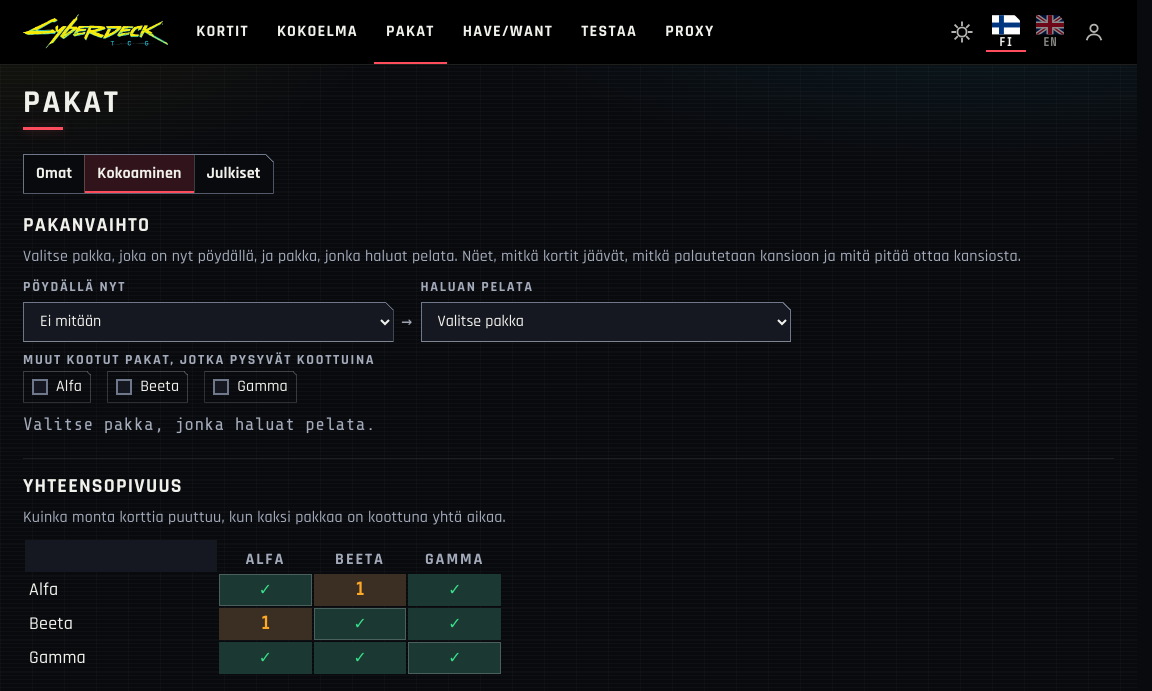
Test case: Kokoaminen tab (T-164) › shows the swap groups and counts for the chosen decks
Select "Alfa" in the dropdown labelled "Pöydällä nyt": (208, 322) [23, 302, 394, 342]
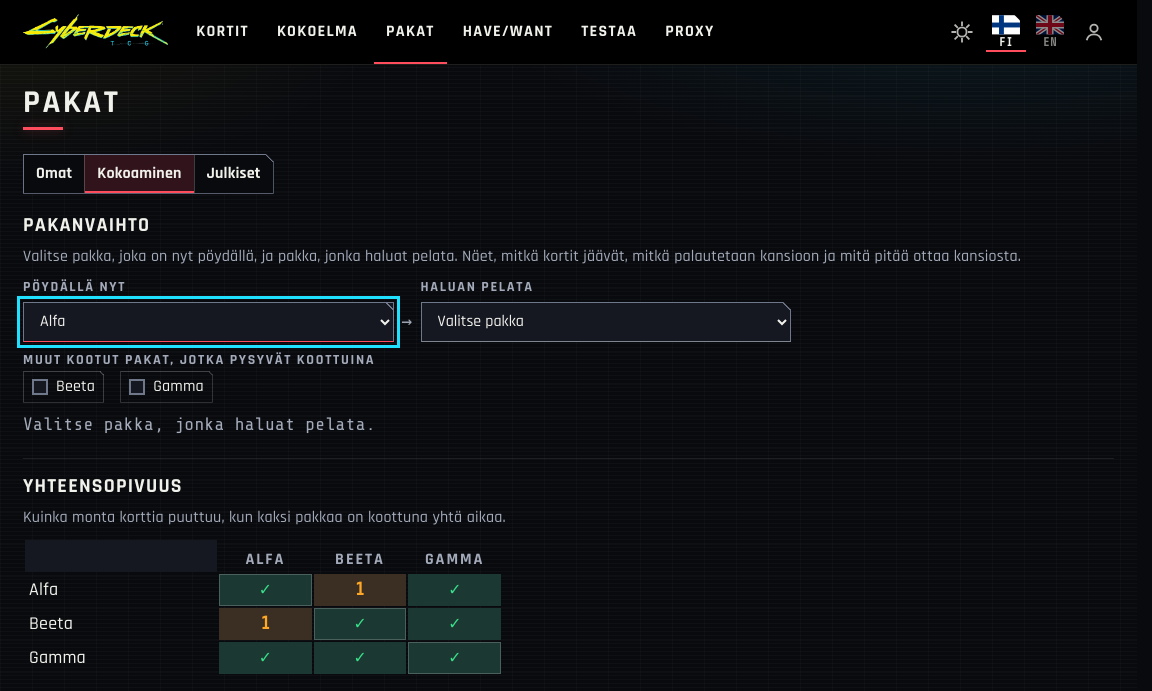
Select "Beeta" in the dropdown labelled "Haluan pelata": (606, 322) [420, 302, 791, 342]
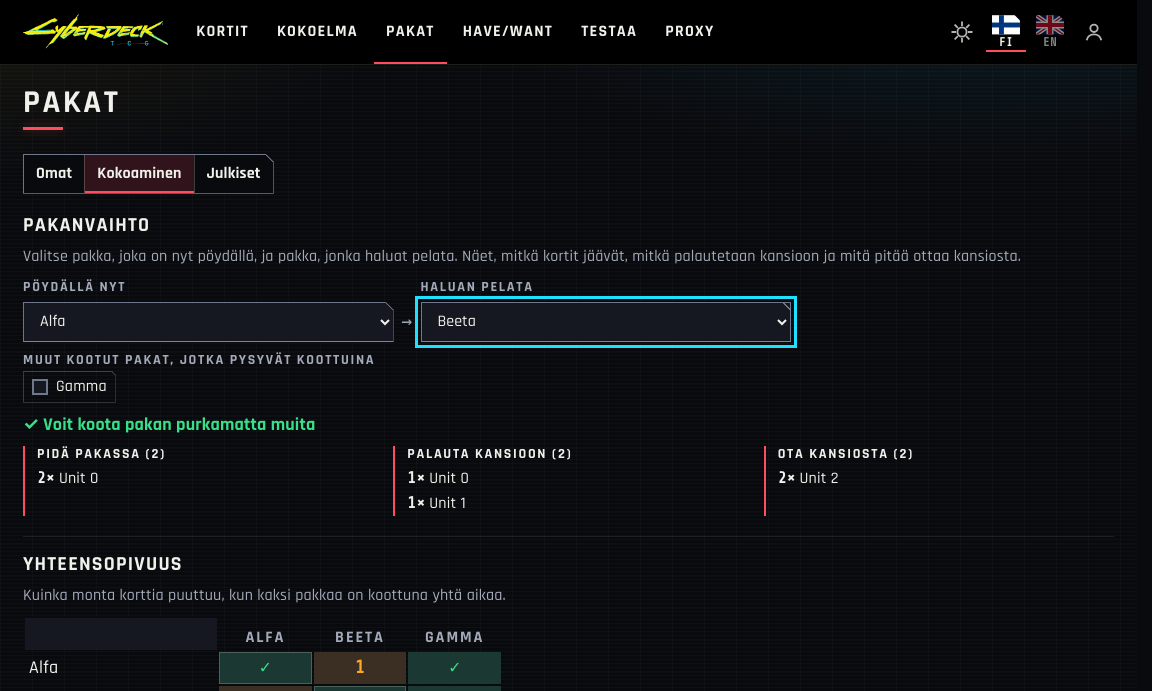
Now the heading "Pidä pakassa (2)" is shown, box [37, 445, 166, 463]
Now the heading "Palauta kansioon (2)" is shown, box [407, 445, 572, 463]
Now the heading "Ota kansiosta (2)" is shown, box [778, 445, 914, 463]
